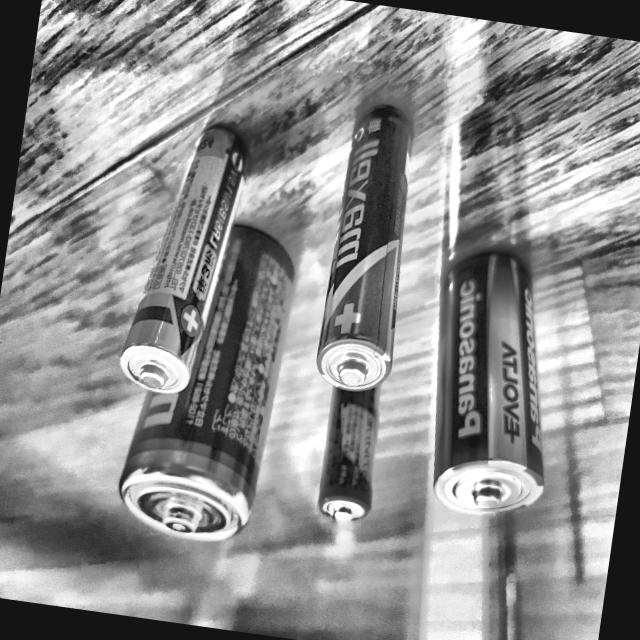drycell: (101, 197, 318, 554), (115, 112, 264, 408)
